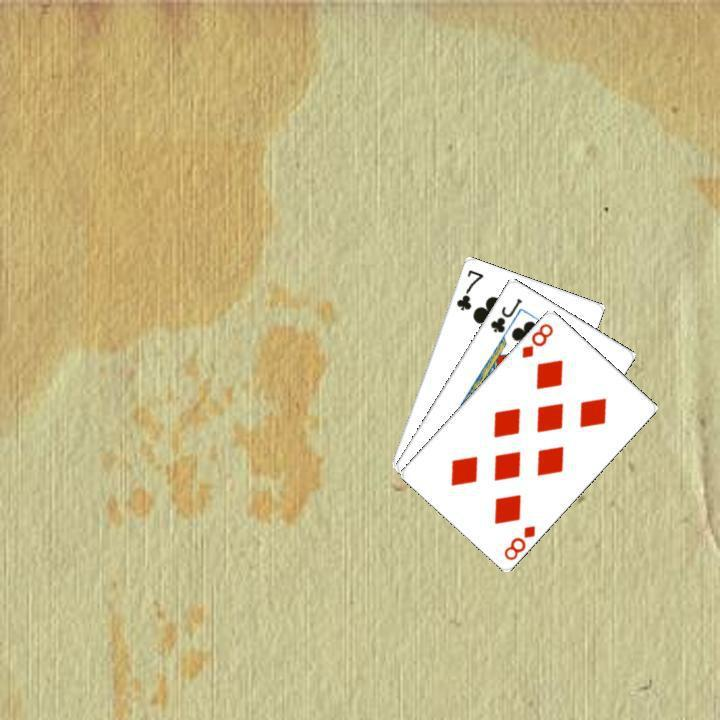7: (452, 265, 485, 312)
8: (517, 318, 555, 360), (499, 521, 537, 562)
J: (486, 293, 524, 335)
